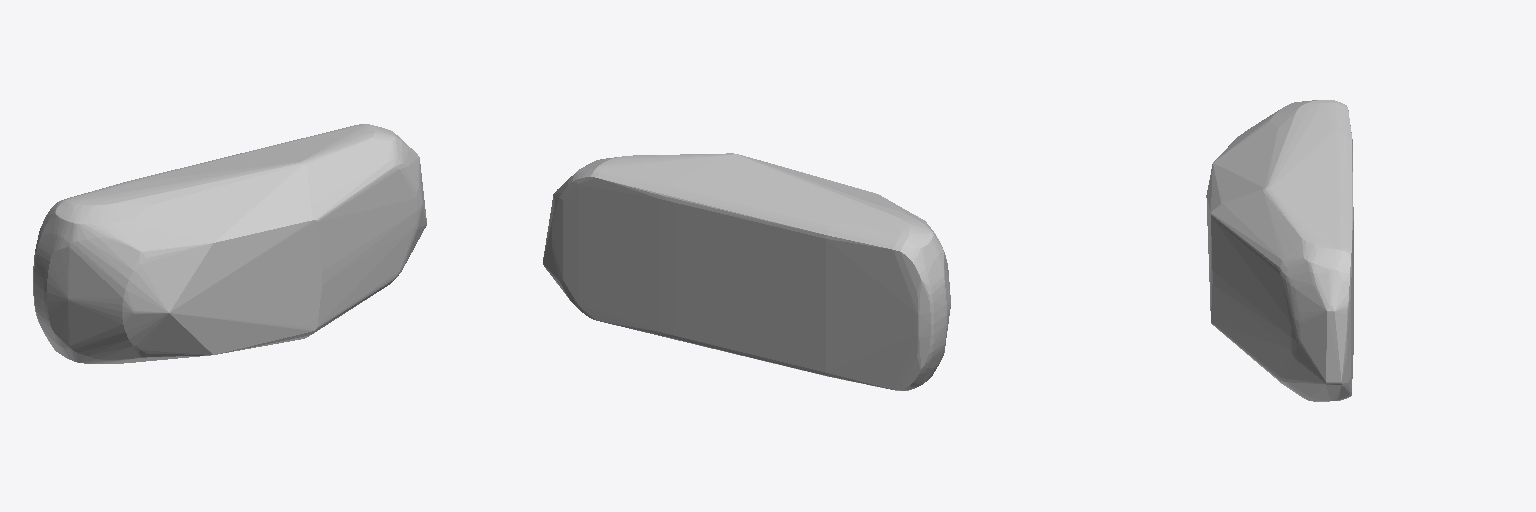
Rendered from nissan_leaf_convex_hull.obj.
3 renders of one model, left to right at view 1: azimuth 30°, elevation 25°; view 2: azimuth 150°, elevation 25°; view 3: azimuth 270°, elevation 25°, orthographic.
Bounding box in the file's own units: 4.54 × 1.96 × 1.49.